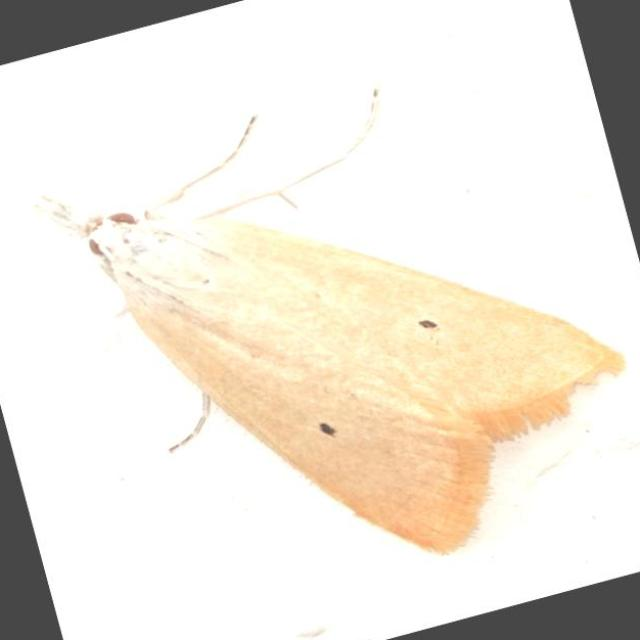stem borer: (43, 89, 625, 552)
